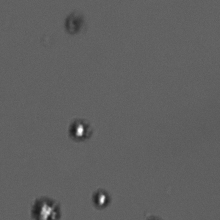Dead Cell: (64, 11, 85, 35)
Living Cell: (68, 118, 91, 141), (91, 187, 110, 209)
